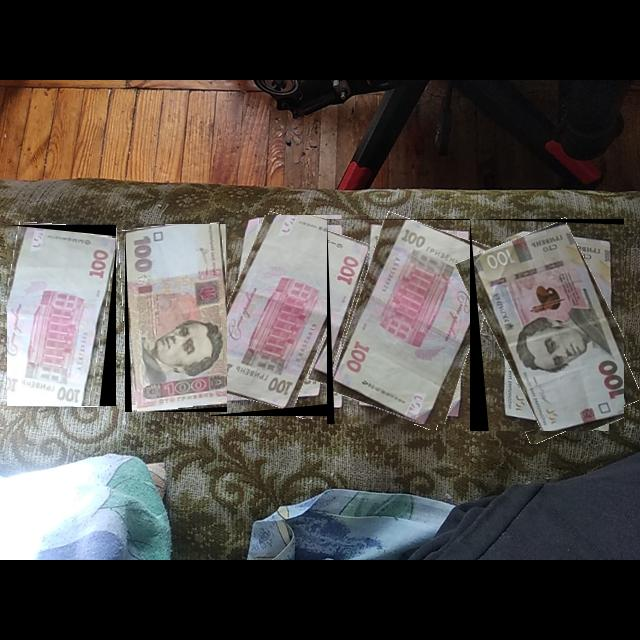100uah: (332, 220, 497, 425), (473, 222, 625, 432), (210, 215, 367, 411), (7, 227, 117, 407), (125, 224, 228, 413)
